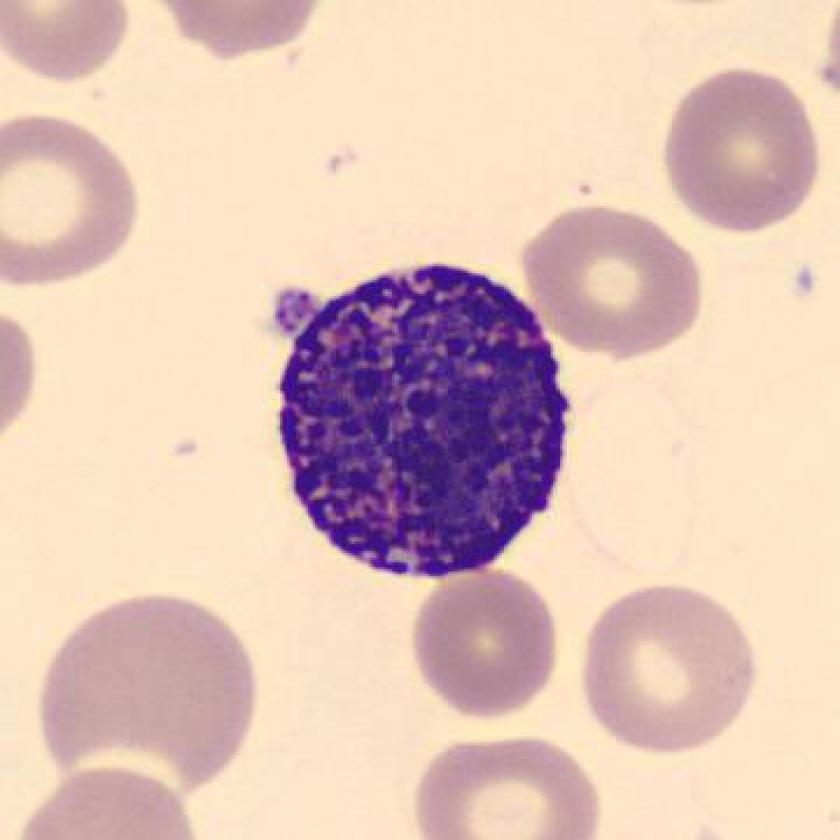basophil: (267, 251, 577, 596)
